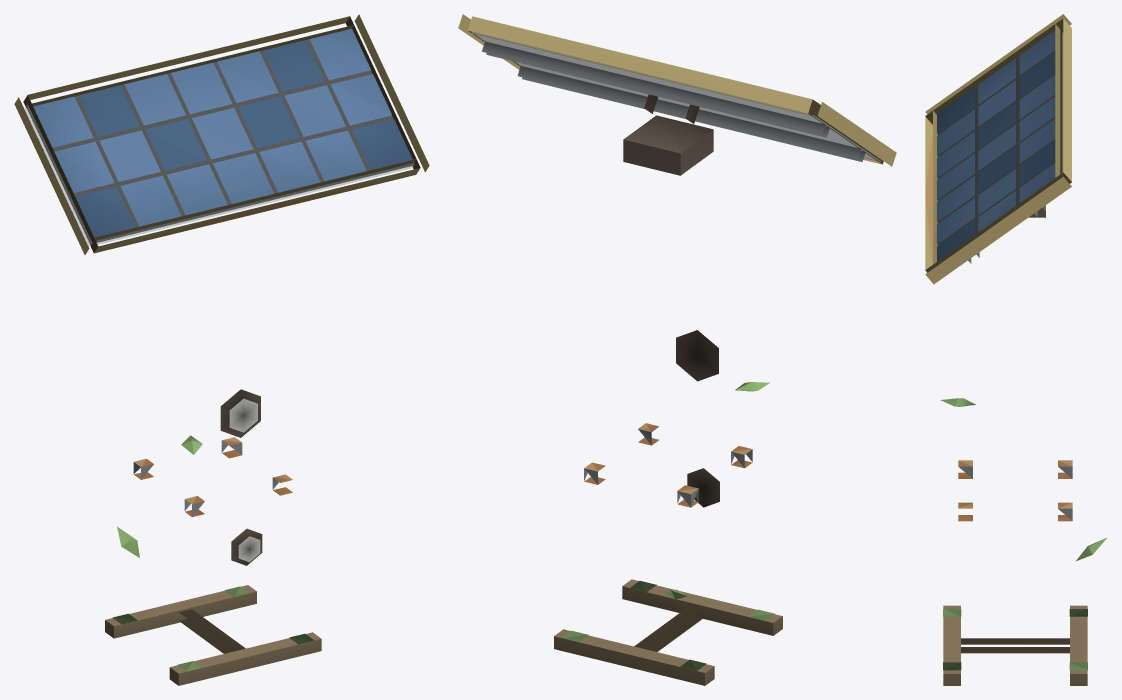
File: tracker.lod.glb
3 views of the same model, side by side, from view 1: azimuth 30°, elevation 25°; view 2: azimuth 150°, elevation 25°; view 3: azimuth 270°, elevation 25° (orthographic). The views are drawn at different scales.
Parts seen in each view (by area): view 1: tracker; view 2: tracker; view 3: tracker.
Boxes of the visible parts, box(x1,y1,x2,y2) form: tracker: box(14, 14, 429, 685); tracker: box(458, 14, 896, 685); tracker: box(925, 14, 1107, 685).
Bounding box in the file's own units: 4.38 × 6.98 × 2.08.
